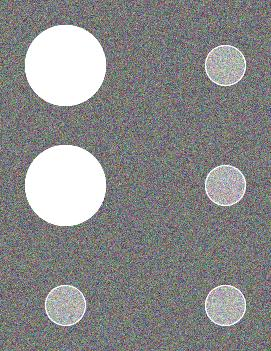B: (20, 21, 258, 341)
